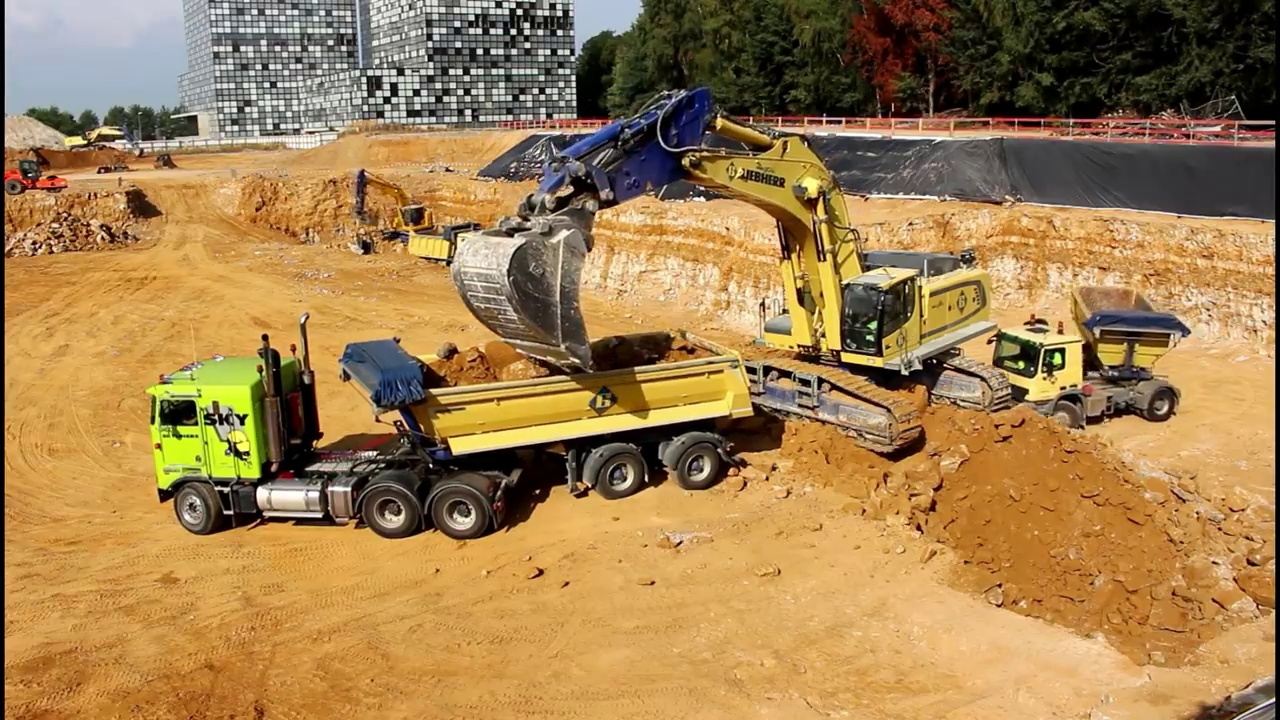compactor: (6, 159, 71, 196)
excavator: (452, 82, 1015, 458), (346, 165, 459, 259), (60, 117, 143, 159)
truck: (146, 309, 759, 543), (992, 281, 1195, 444), (402, 219, 498, 283)
